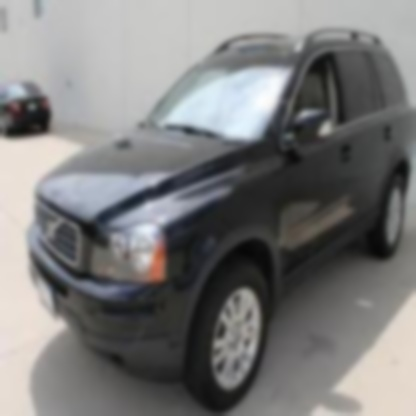Vehicle: (26, 27, 414, 414)
